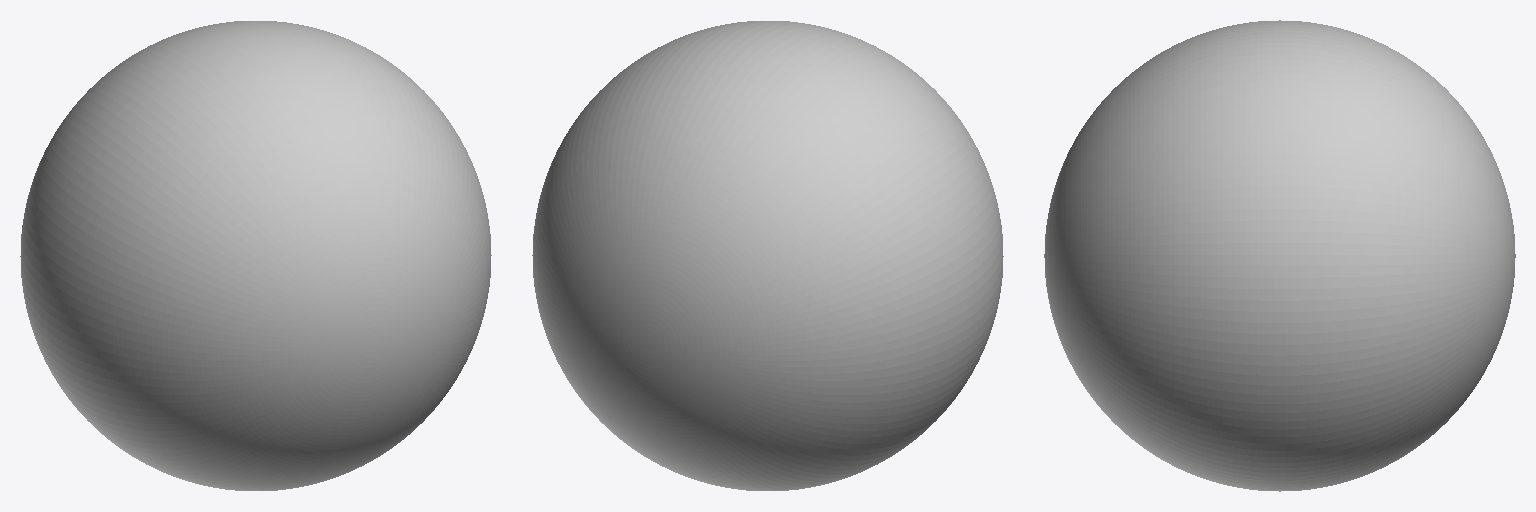
The model's file is ball.obj.
The picture shows the model from 3 angles: view 1: azimuth 30°, elevation 25°; view 2: azimuth 150°, elevation 25°; view 3: azimuth 270°, elevation 25°; orthographic projection.
Parts seen in each view (by area): view 1: Sphere_Sphere.002; view 2: Sphere_Sphere.002; view 3: Sphere_Sphere.002.
Boxes of the visible parts, box(x1,y1,x2,y2) form: Sphere_Sphere.002: box(20, 21, 491, 490); Sphere_Sphere.002: box(532, 21, 1003, 490); Sphere_Sphere.002: box(1044, 20, 1515, 491).
Size of the model in its own units: 1 by 1 by 1.